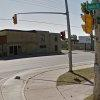Traffic light: (72, 4, 97, 53)
